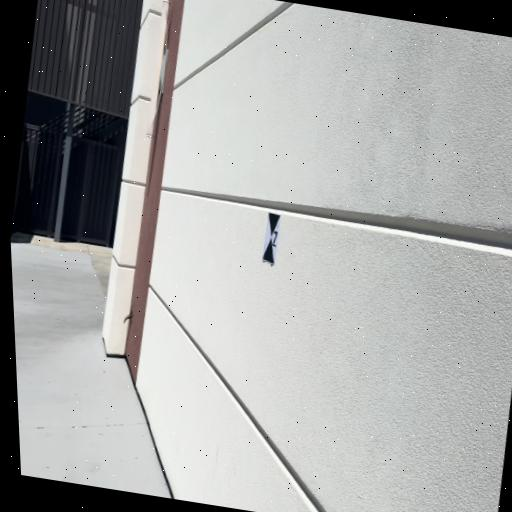target7: (263, 211, 281, 266)
